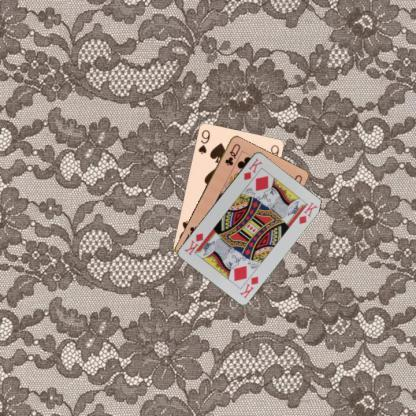9s: (196, 127, 210, 156)
Kd: (240, 156, 263, 182), (238, 274, 260, 300)
Qc: (221, 141, 242, 167)
